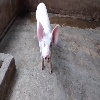heo: (35, 1, 60, 75)
